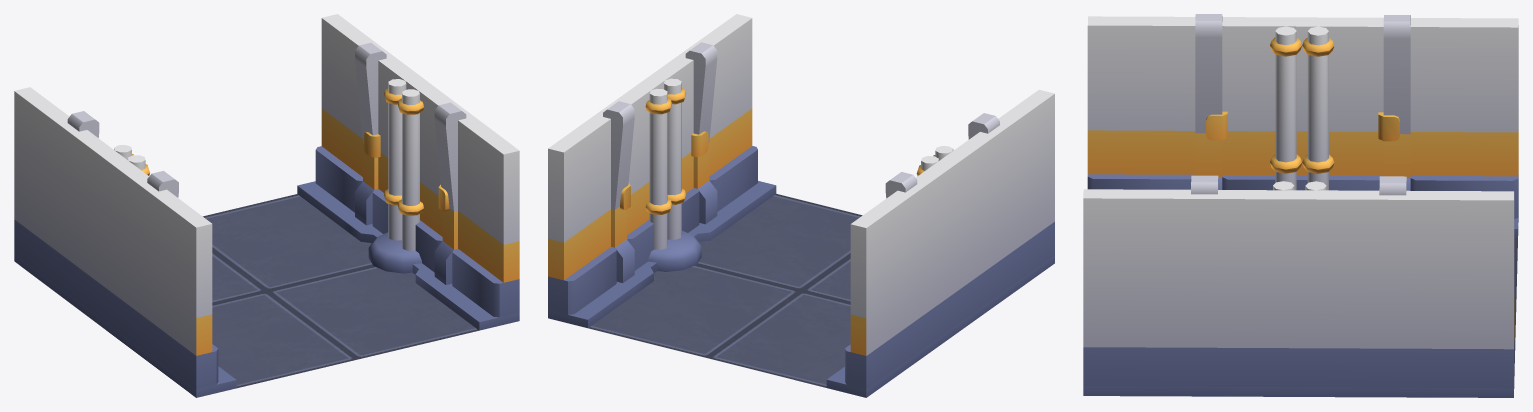
File: corridor-wide.001_lev4.glb
3 renders of one model, left to right at view 1: azimuth 30°, elevation 25°; view 2: azimuth 150°, elevation 25°; view 3: azimuth 270°, elevation 25°, orthographic. The views are drawn at different scales.
Parts seen in each view (by area): view 1: corridor-wide.001_lev4; view 2: corridor-wide.001_lev4; view 3: corridor-wide.001_lev4.
Boxes of the visible parts, box(x1,y1,x2,y2) form: corridor-wide.001_lev4: box(14, 14, 519, 397); corridor-wide.001_lev4: box(548, 14, 1054, 397); corridor-wide.001_lev4: box(1083, 14, 1518, 397).
Size of the model in its own units: 24.26 by 12.75 by 24.26.
1 material, 1 textured.
